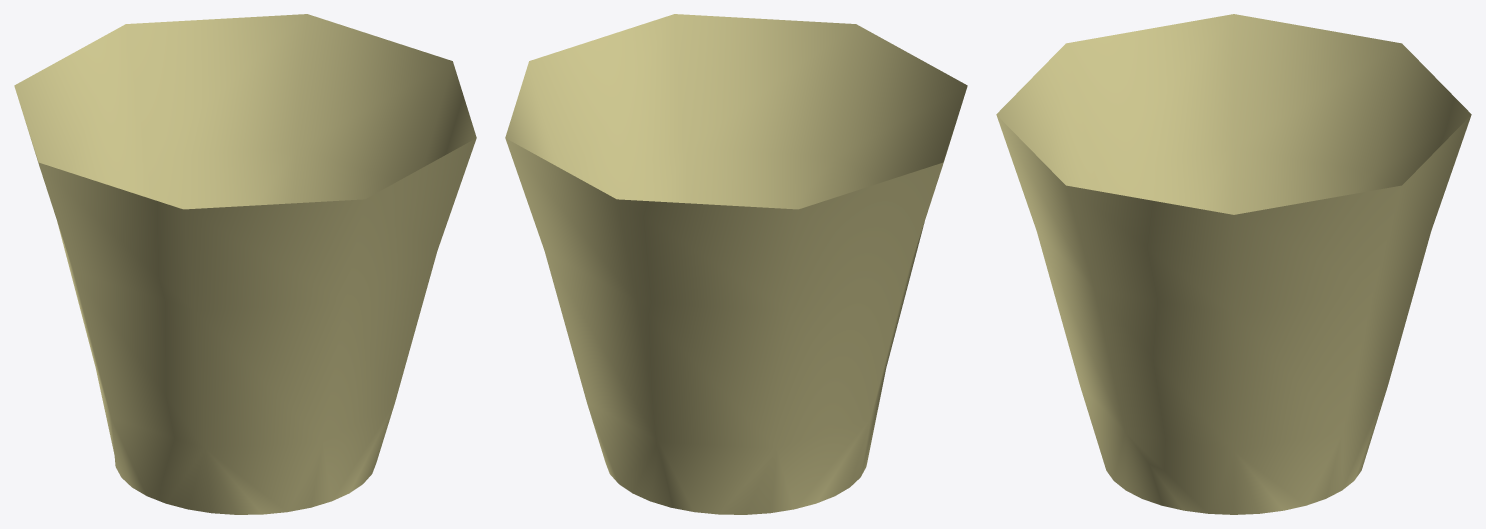
Rendered from lamp_light.obj.
3 renders of one model, left to right at view 1: azimuth 30°, elevation 25°; view 2: azimuth 150°, elevation 25°; view 3: azimuth 270°, elevation 25°, orthographic.
Visible parts, largest first — view 1: lamp:lamp_light lamp1; view 2: lamp:lamp_light lamp1; view 3: lamp:lamp_light lamp1.
Part boxes in pixels (box(x1,y1,x2,y2)): lamp:lamp_light lamp1: box(14, 14, 476, 514); lamp:lamp_light lamp1: box(505, 14, 967, 514); lamp:lamp_light lamp1: box(996, 14, 1471, 514).
Bounding box in the file's own units: 0.9512 × 0.7626 × 0.9512.
